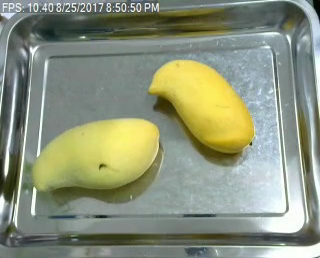Mango: (142, 49, 258, 162), (24, 118, 168, 198)
